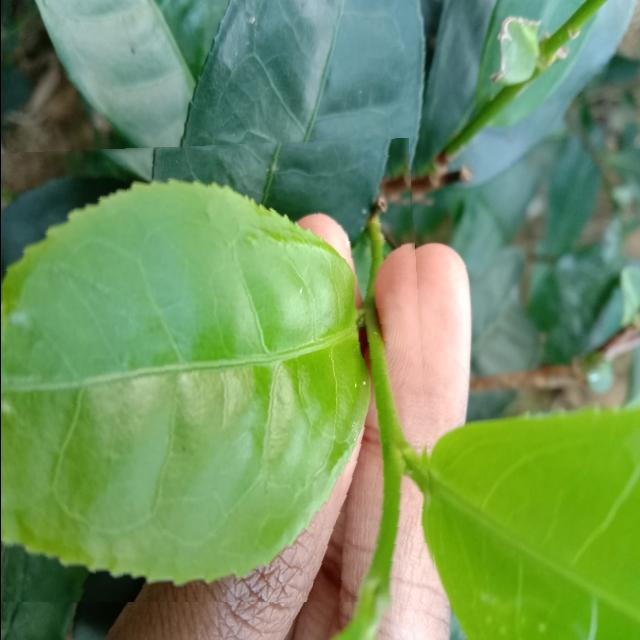Category C(4-7 days): (0, 138, 435, 602)
